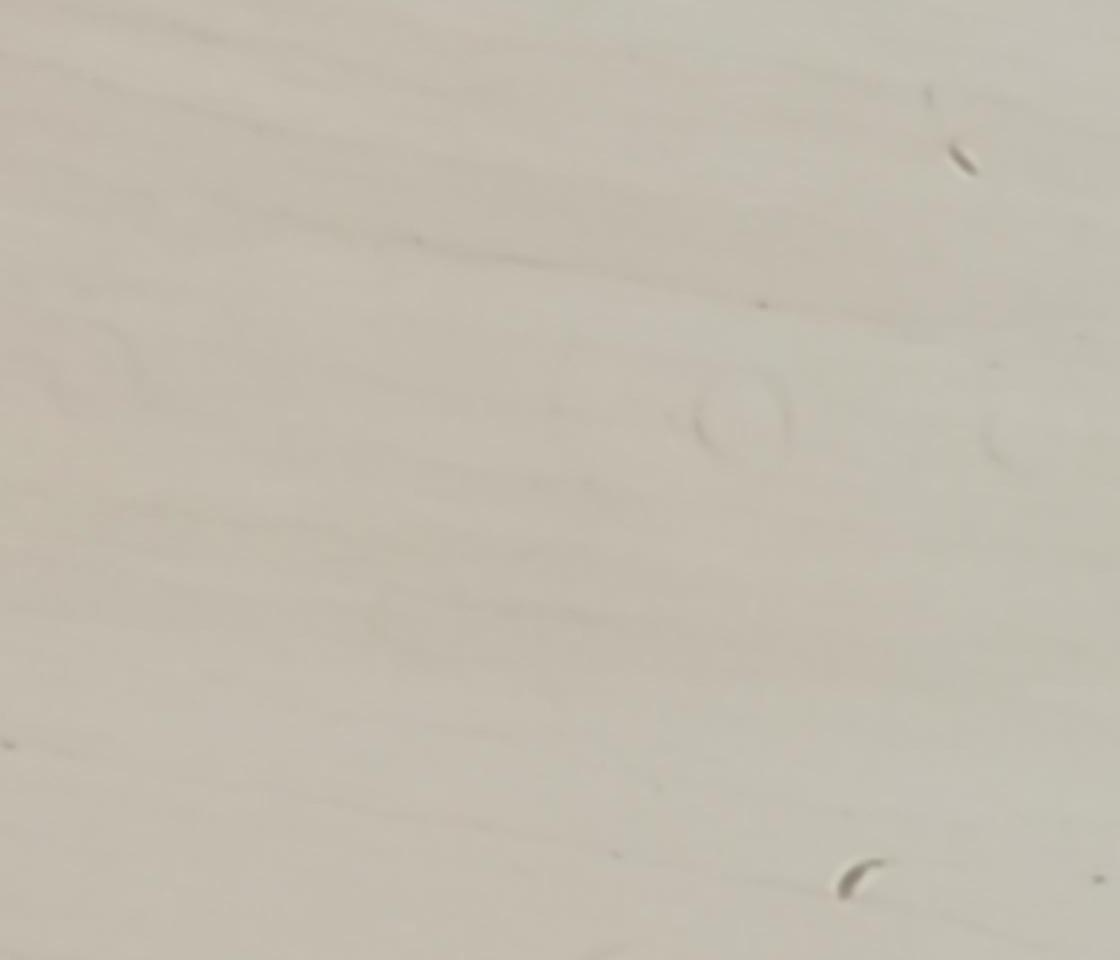scratch: (830, 857, 894, 906), (946, 137, 982, 182)
